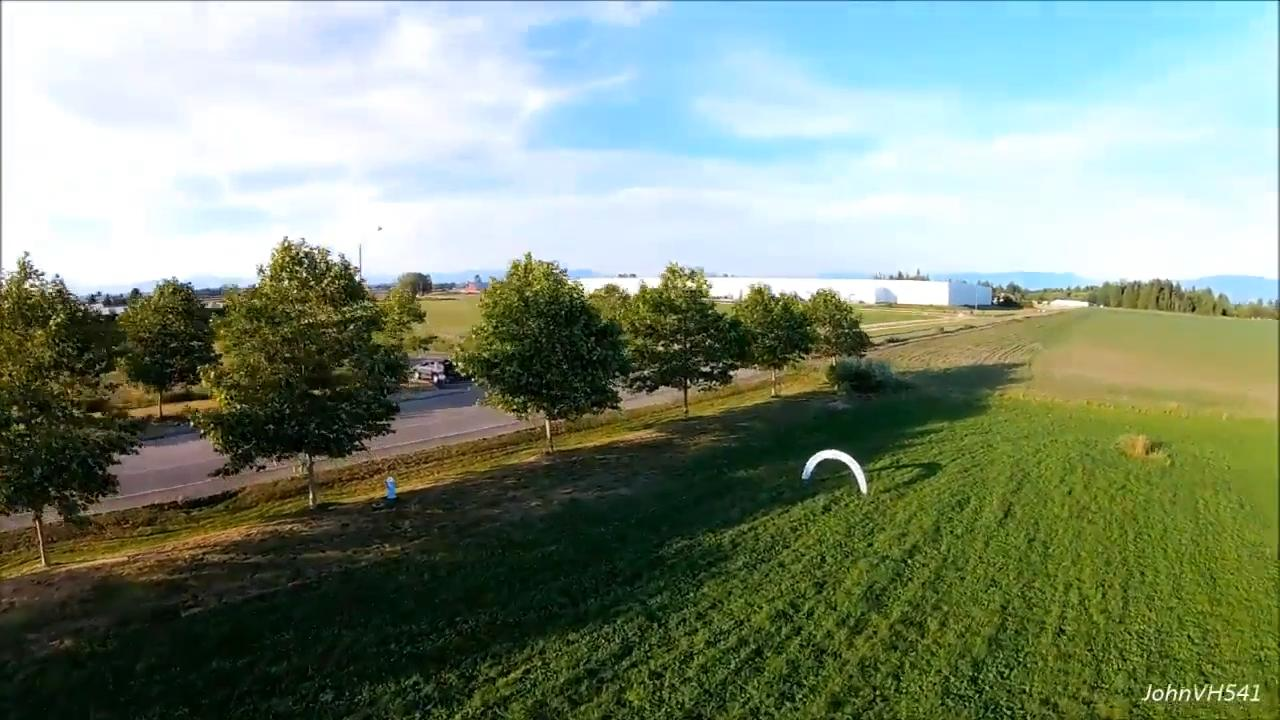gate: (798, 447, 872, 497)
